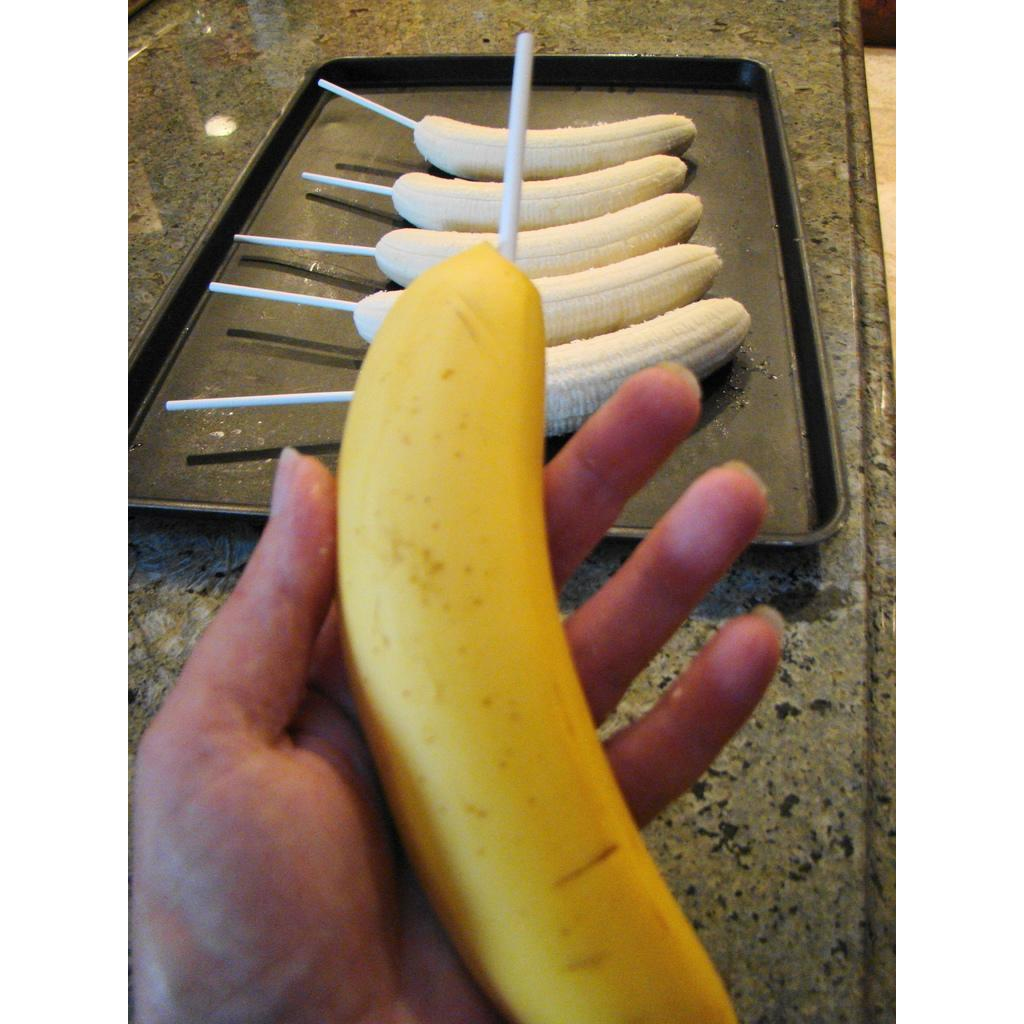banana: (336, 242, 712, 1024)
